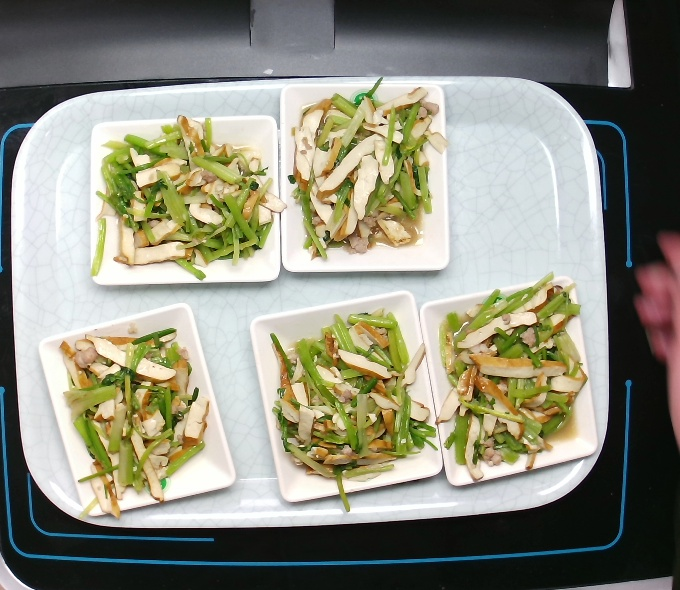wcq-XiangGanQinCai: (265, 302, 443, 515), (88, 106, 289, 285), (432, 268, 591, 482), (54, 319, 213, 527), (286, 74, 451, 267)
